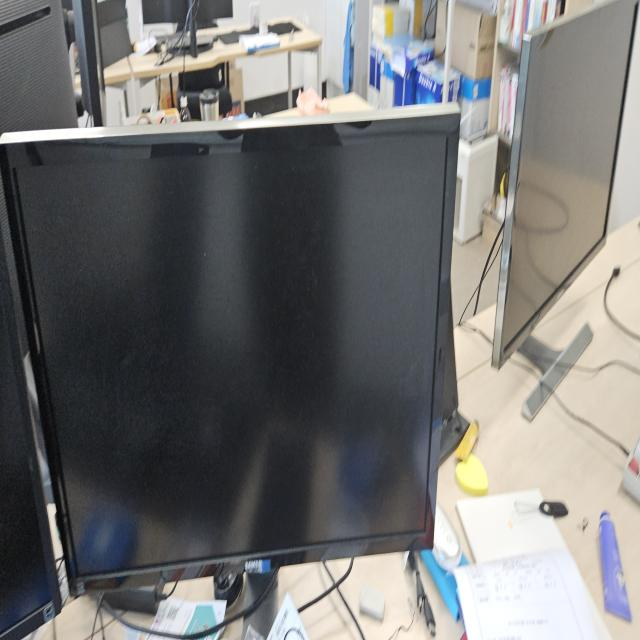Monitor: (2, 98, 465, 606)
